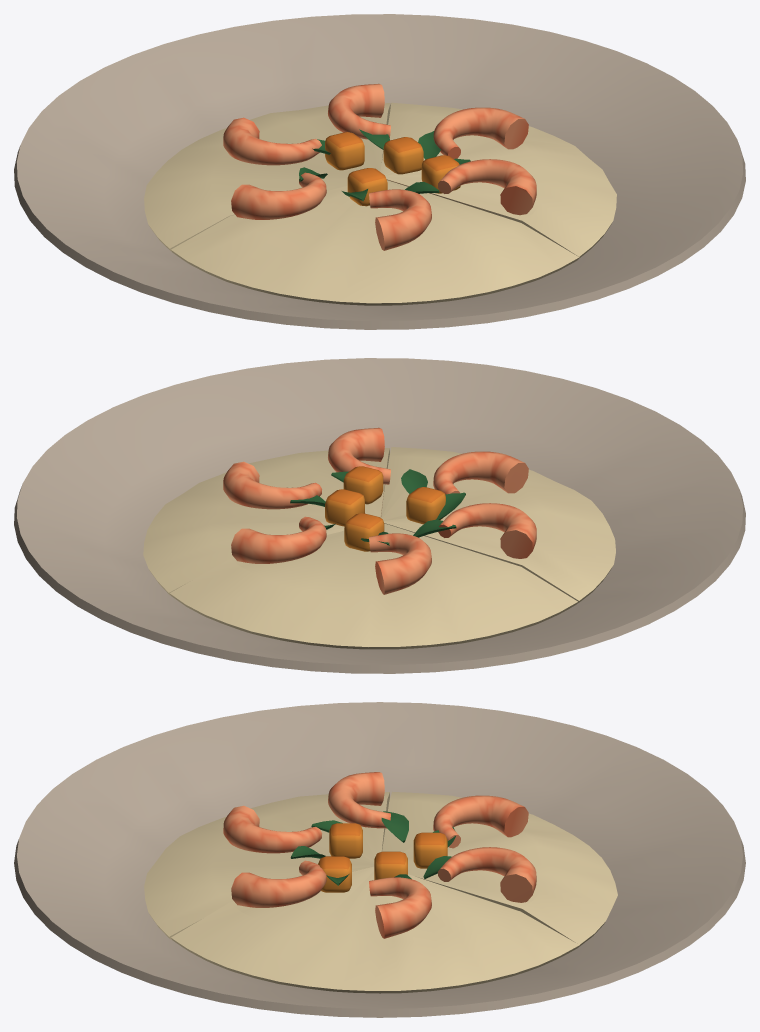
File: dish-shrimp-bowl-lod0.glb
3 views of the same model, one above another, from view 1: azimuth 30°, elevation 25°; view 2: azimuth 150°, elevation 25°; view 3: azimuth 270°, elevation 25° (orthographic).
Parts seen in each view (by area): view 1: shrimp-bowl.lod0__table warm glaze, shrimp-bowl.lod0__food, shrimp-bowl.lod0__food glaze; view 2: shrimp-bowl.lod0__table warm glaze, shrimp-bowl.lod0__food, shrimp-bowl.lod0__food glaze; view 3: shrimp-bowl.lod0__table warm glaze, shrimp-bowl.lod0__food, shrimp-bowl.lod0__food glaze.
Part boxes in pixels (left/top/right/bottom): shrimp-bowl.lod0__table warm glaze: left=14, top=14, right=745, bottom=329; shrimp-bowl.lod0__food: left=144, top=102, right=616, bottom=305; shrimp-bowl.lod0__food glaze: left=223, top=83, right=536, bottom=250; shrimp-bowl.lod0__table warm glaze: left=14, top=358, right=745, bottom=673; shrimp-bowl.lod0__food: left=143, top=447, right=615, bottom=649; shrimp-bowl.lod0__food glaze: left=223, top=427, right=536, bottom=594; shrimp-bowl.lod0__table warm glaze: left=14, top=702, right=745, bottom=1017; shrimp-bowl.lod0__food: left=144, top=791, right=617, bottom=993; shrimp-bowl.lod0__food glaze: left=223, top=772, right=536, bottom=938.
Size of the model in its own units: 0.26 by 0.0437 by 0.26.
